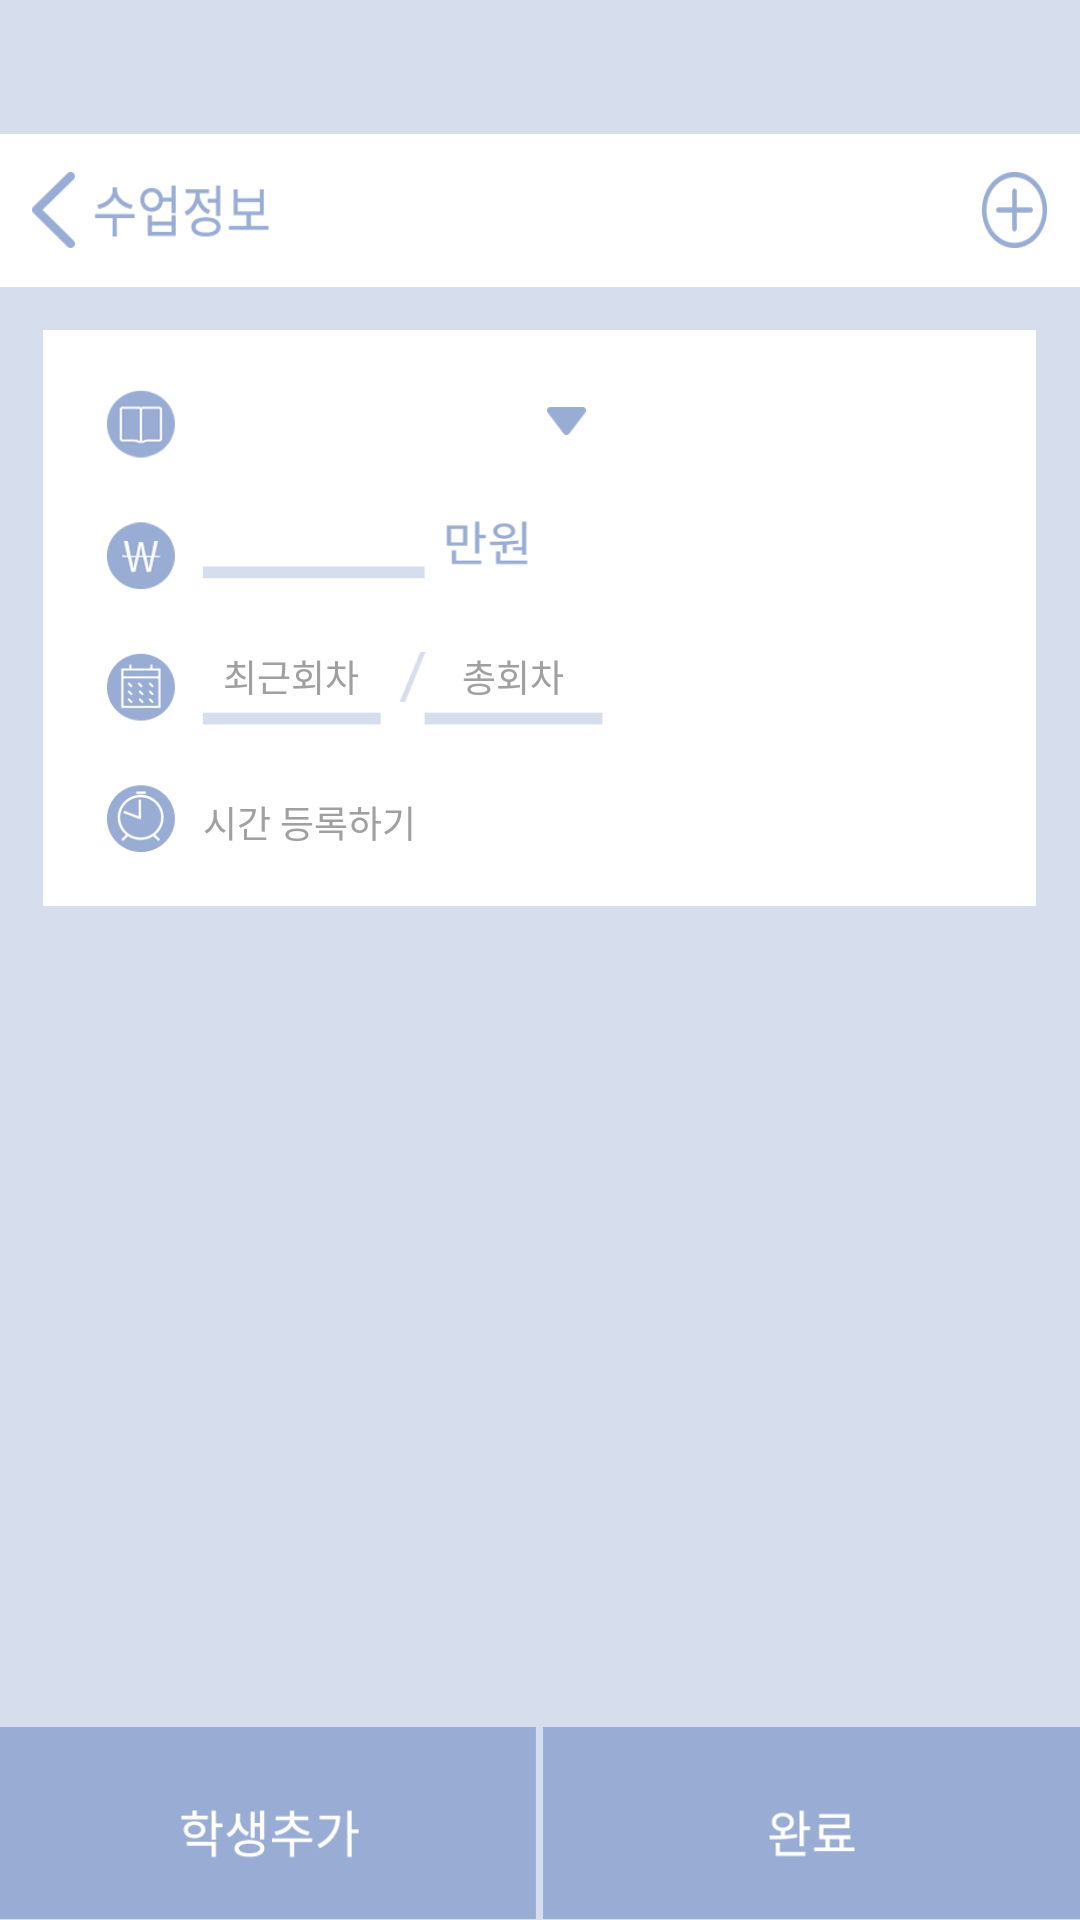

Icons on this 1080 x 1920 Android screen, each with the point to tap as [x,y]:
add class: [1014,210]
back: [53,210]
select subject arrow: [566,421]
